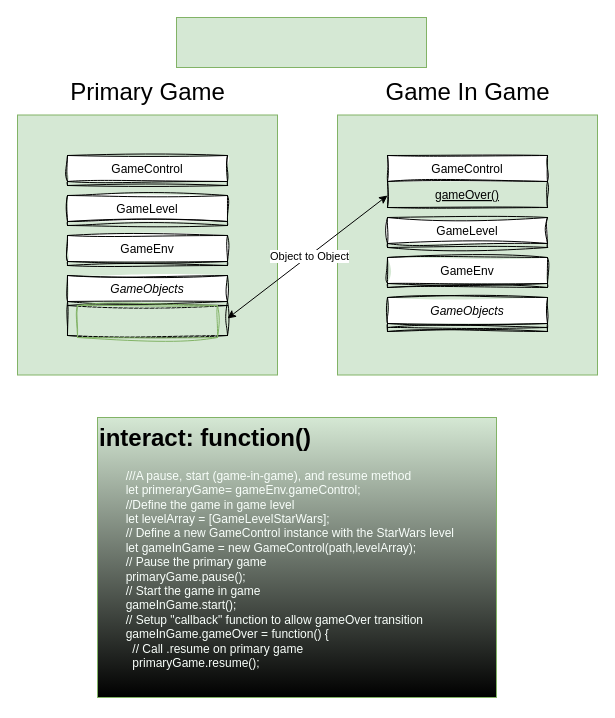
Image size: 615x718. Some labels were removed from this diagram. Here are the shapes that lost their labels. From the top down, the centre of each, then its label:
At [301,42]: "Game Nesting".
At [147,321]: "interact()".
